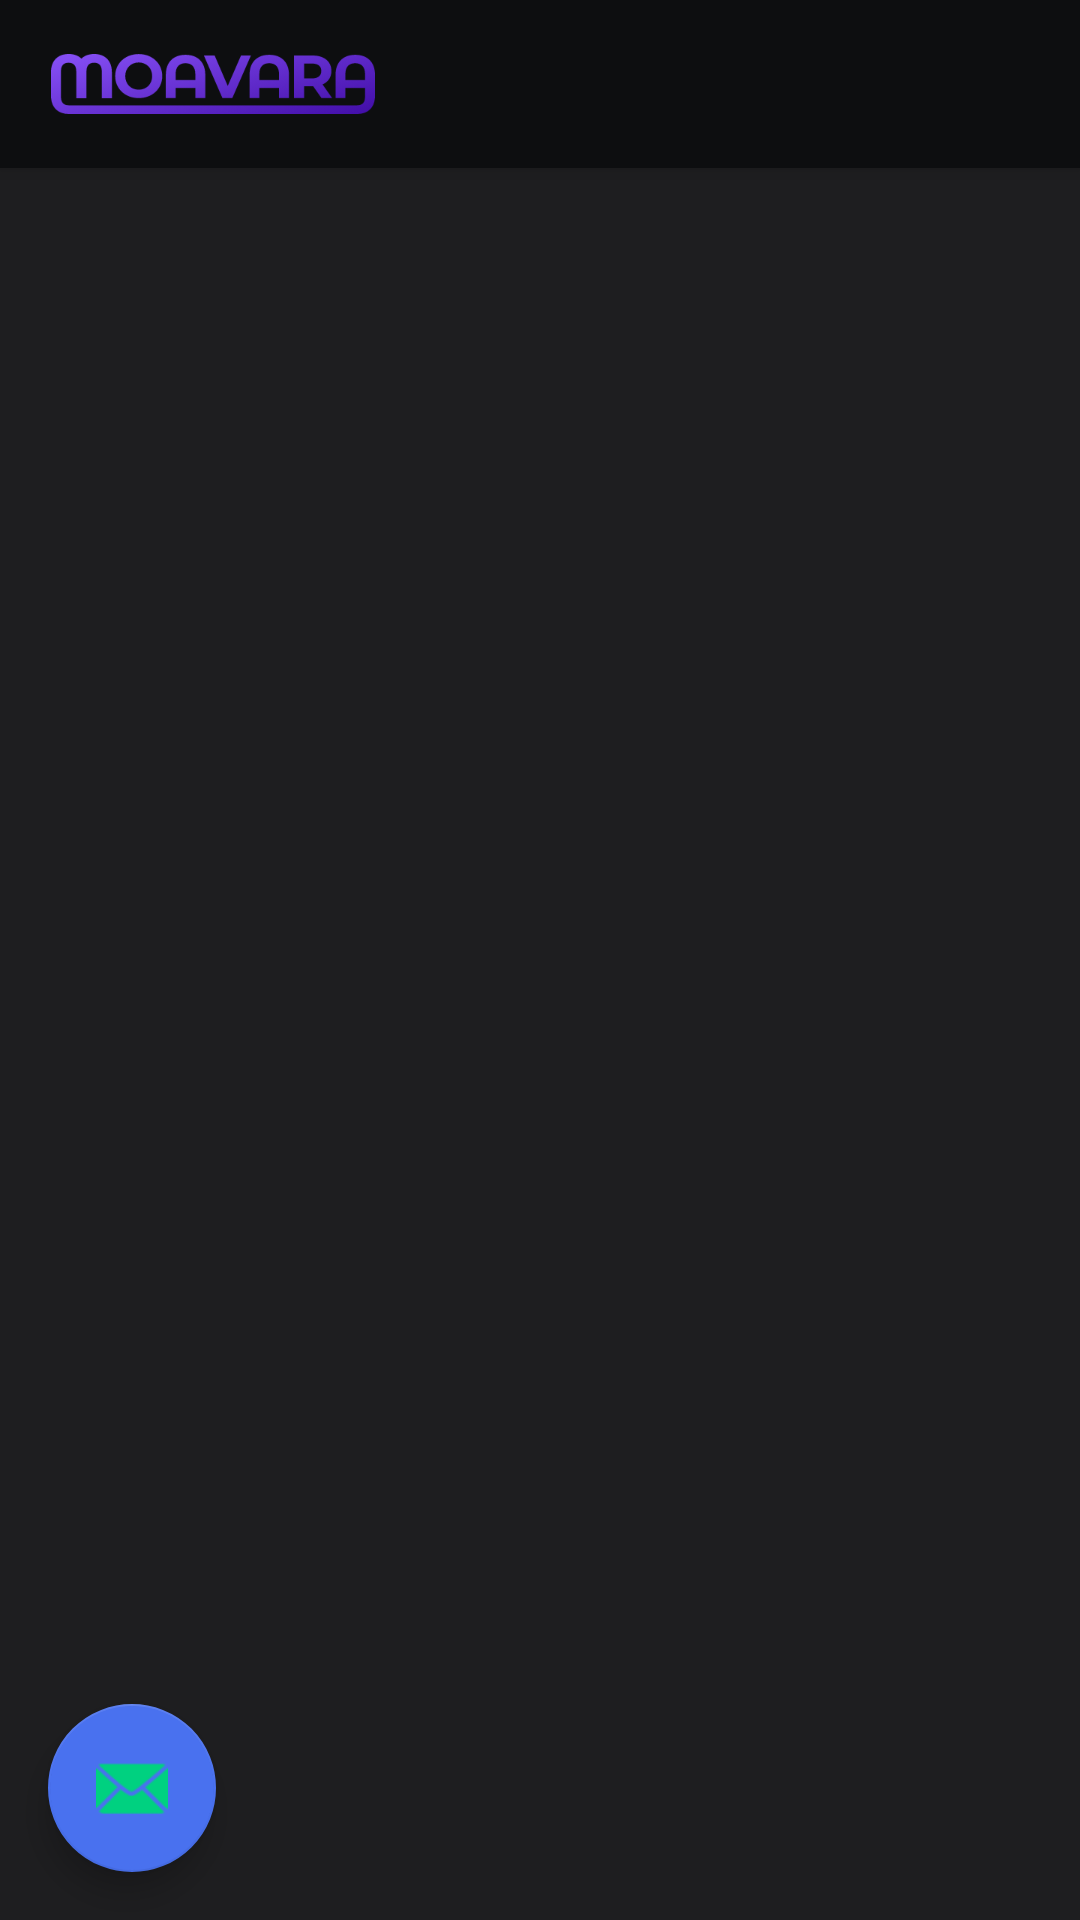

Point at icon controls on the screen. Image size 1080px×1920px, points as (x,y).
email: (132,1788)
